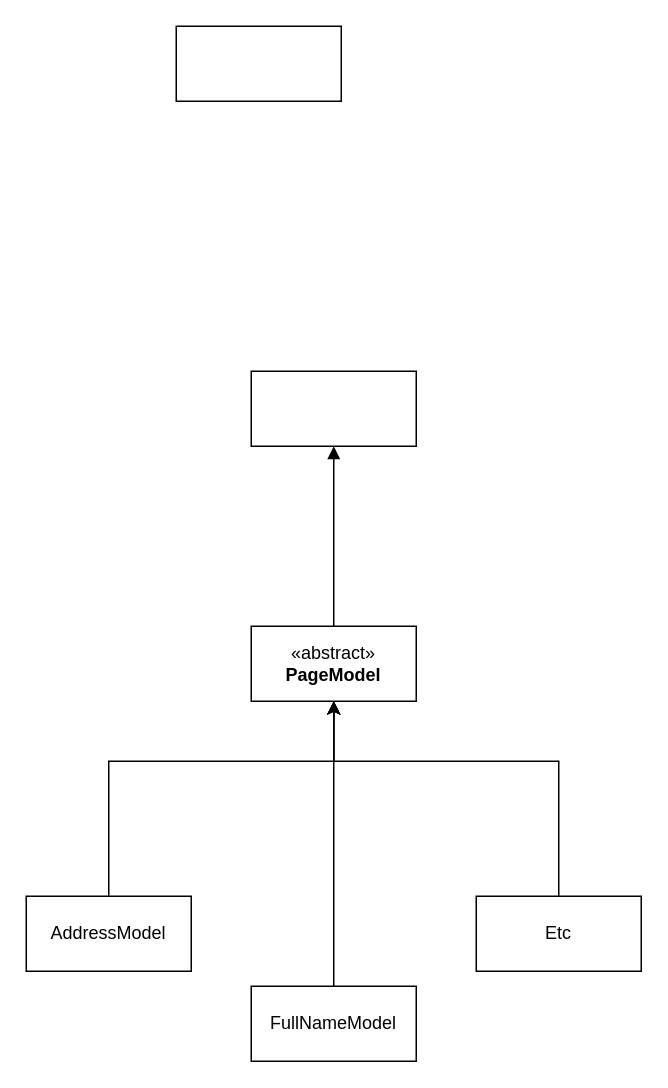
Some shapes in this 668 by 1088 pixel diagram are drawn without their labels. Here are the shapes that lost their labels. From the top down, the centre of each, then its label:
At [258,63]: "FormModel".
At [333,408]: "SectionModel".
